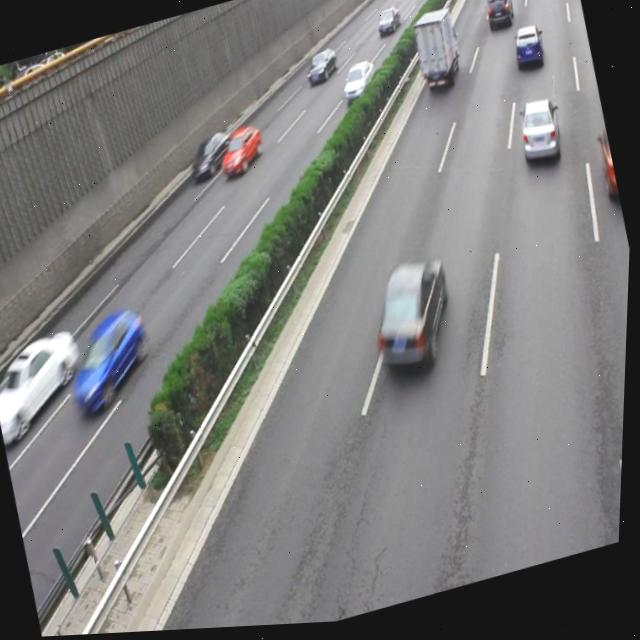bus: (407, 11, 465, 93)
car: (360, 257, 464, 384), (0, 326, 98, 444), (59, 305, 161, 418), (511, 99, 567, 173), (184, 128, 239, 187), (214, 124, 267, 181), (591, 132, 623, 210), (336, 60, 380, 107), (508, 26, 546, 79)
